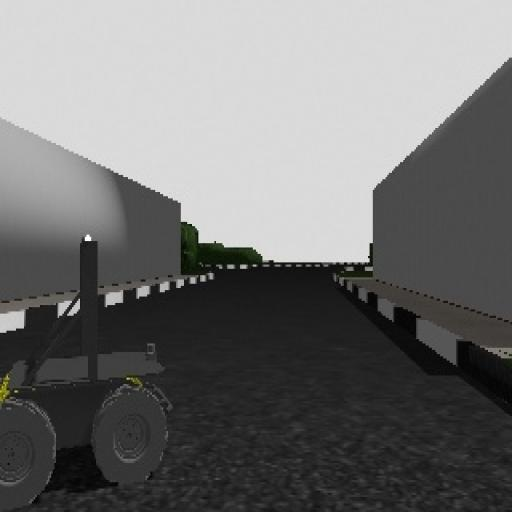huskya200: (0, 226, 176, 512)
